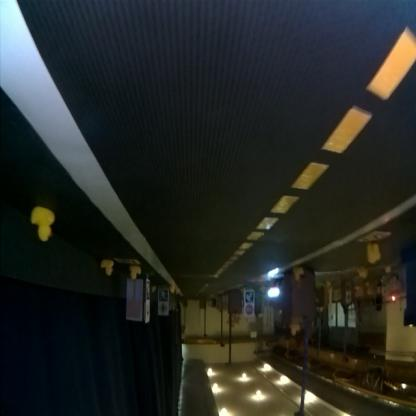Duckie: (32, 208, 53, 242), (367, 244, 381, 264), (102, 262, 114, 276), (294, 268, 303, 282), (132, 268, 140, 280), (358, 269, 366, 278), (170, 287, 176, 294), (295, 330, 301, 336)
Intersection sign: (145, 303, 150, 320), (162, 303, 168, 311)
QR code: (361, 234, 390, 244), (145, 282, 150, 300), (246, 292, 254, 302), (162, 290, 167, 298)
Stop sign: (245, 306, 253, 316)
